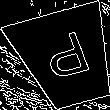P_S: (37, 29, 96, 88)
